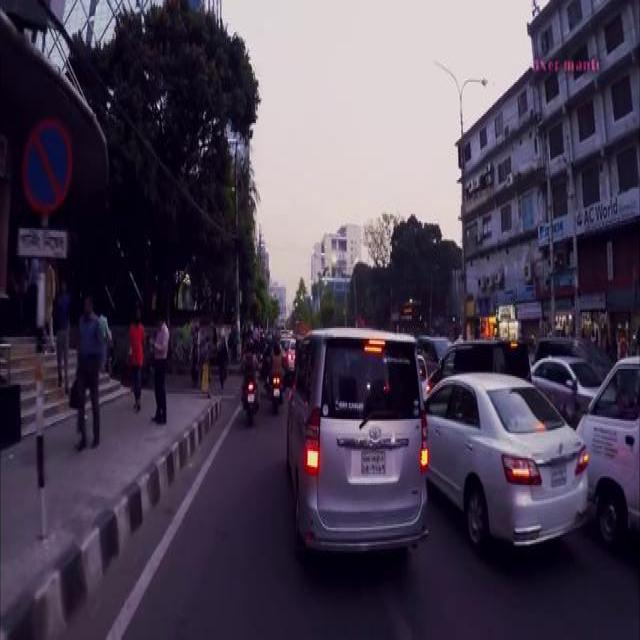car: (425, 372, 587, 546), (530, 352, 600, 409), (286, 334, 296, 370)
minivan: (284, 326, 428, 549), (427, 338, 531, 384)
motorbike: (242, 364, 260, 422), (267, 369, 283, 406)
